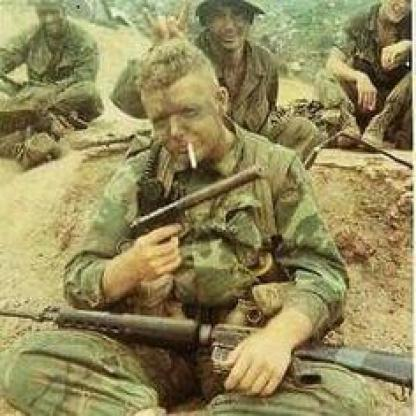Grenade: (222, 296, 263, 328)
Gun: (2, 296, 416, 388)
Pistol: (128, 166, 264, 240)
